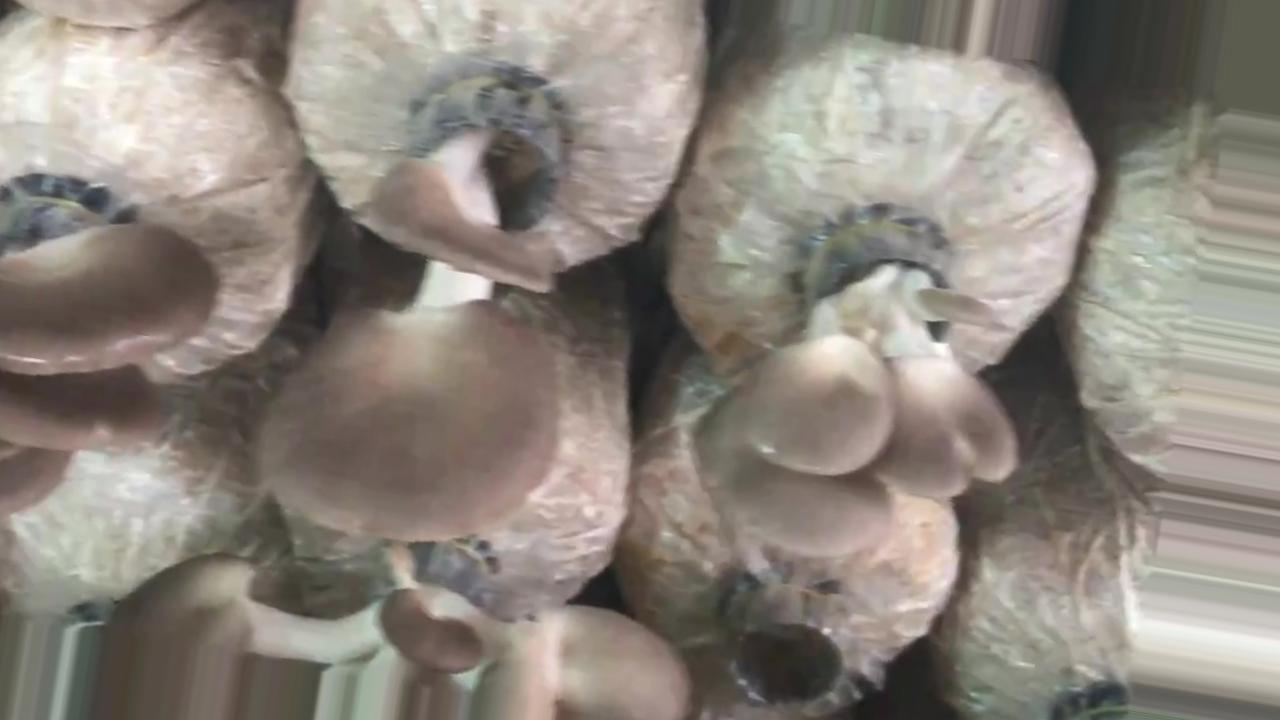nam: (253, 71, 571, 546), (692, 209, 1021, 568), (88, 545, 698, 720), (1, 175, 221, 524)
